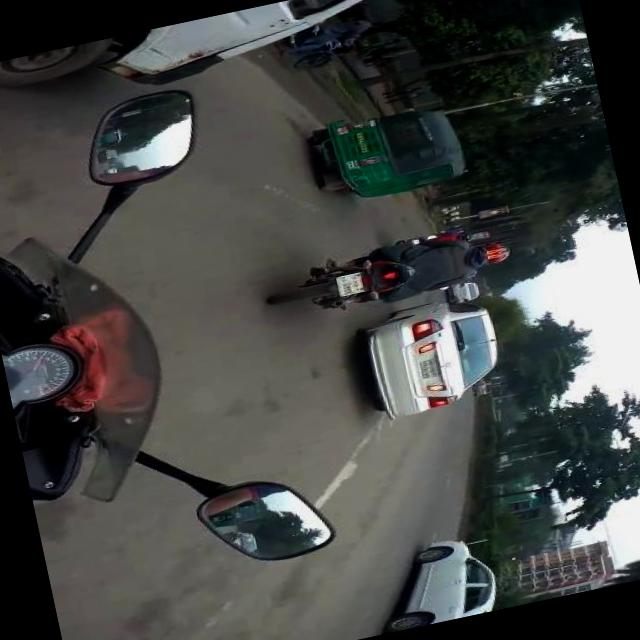car: (340, 279, 516, 432), (362, 526, 514, 634), (444, 276, 486, 306)
motorcycle: (252, 224, 457, 334), (297, 93, 478, 214), (276, 10, 366, 76)
